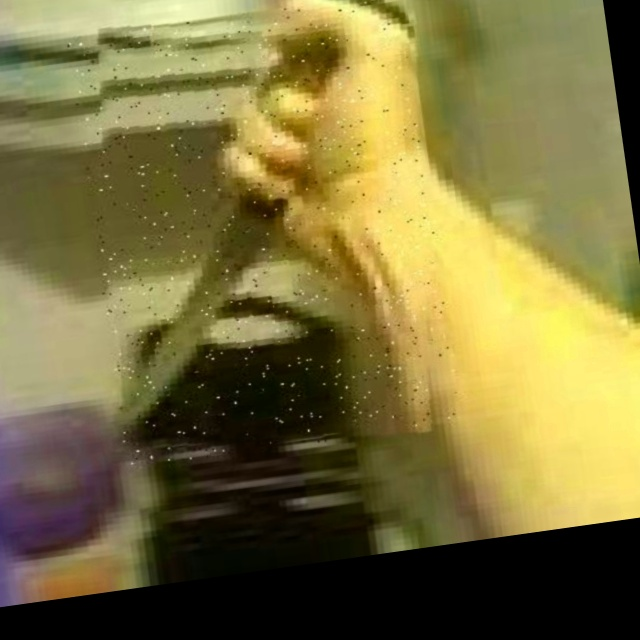Sharp-Object: (67, 0, 462, 469)
